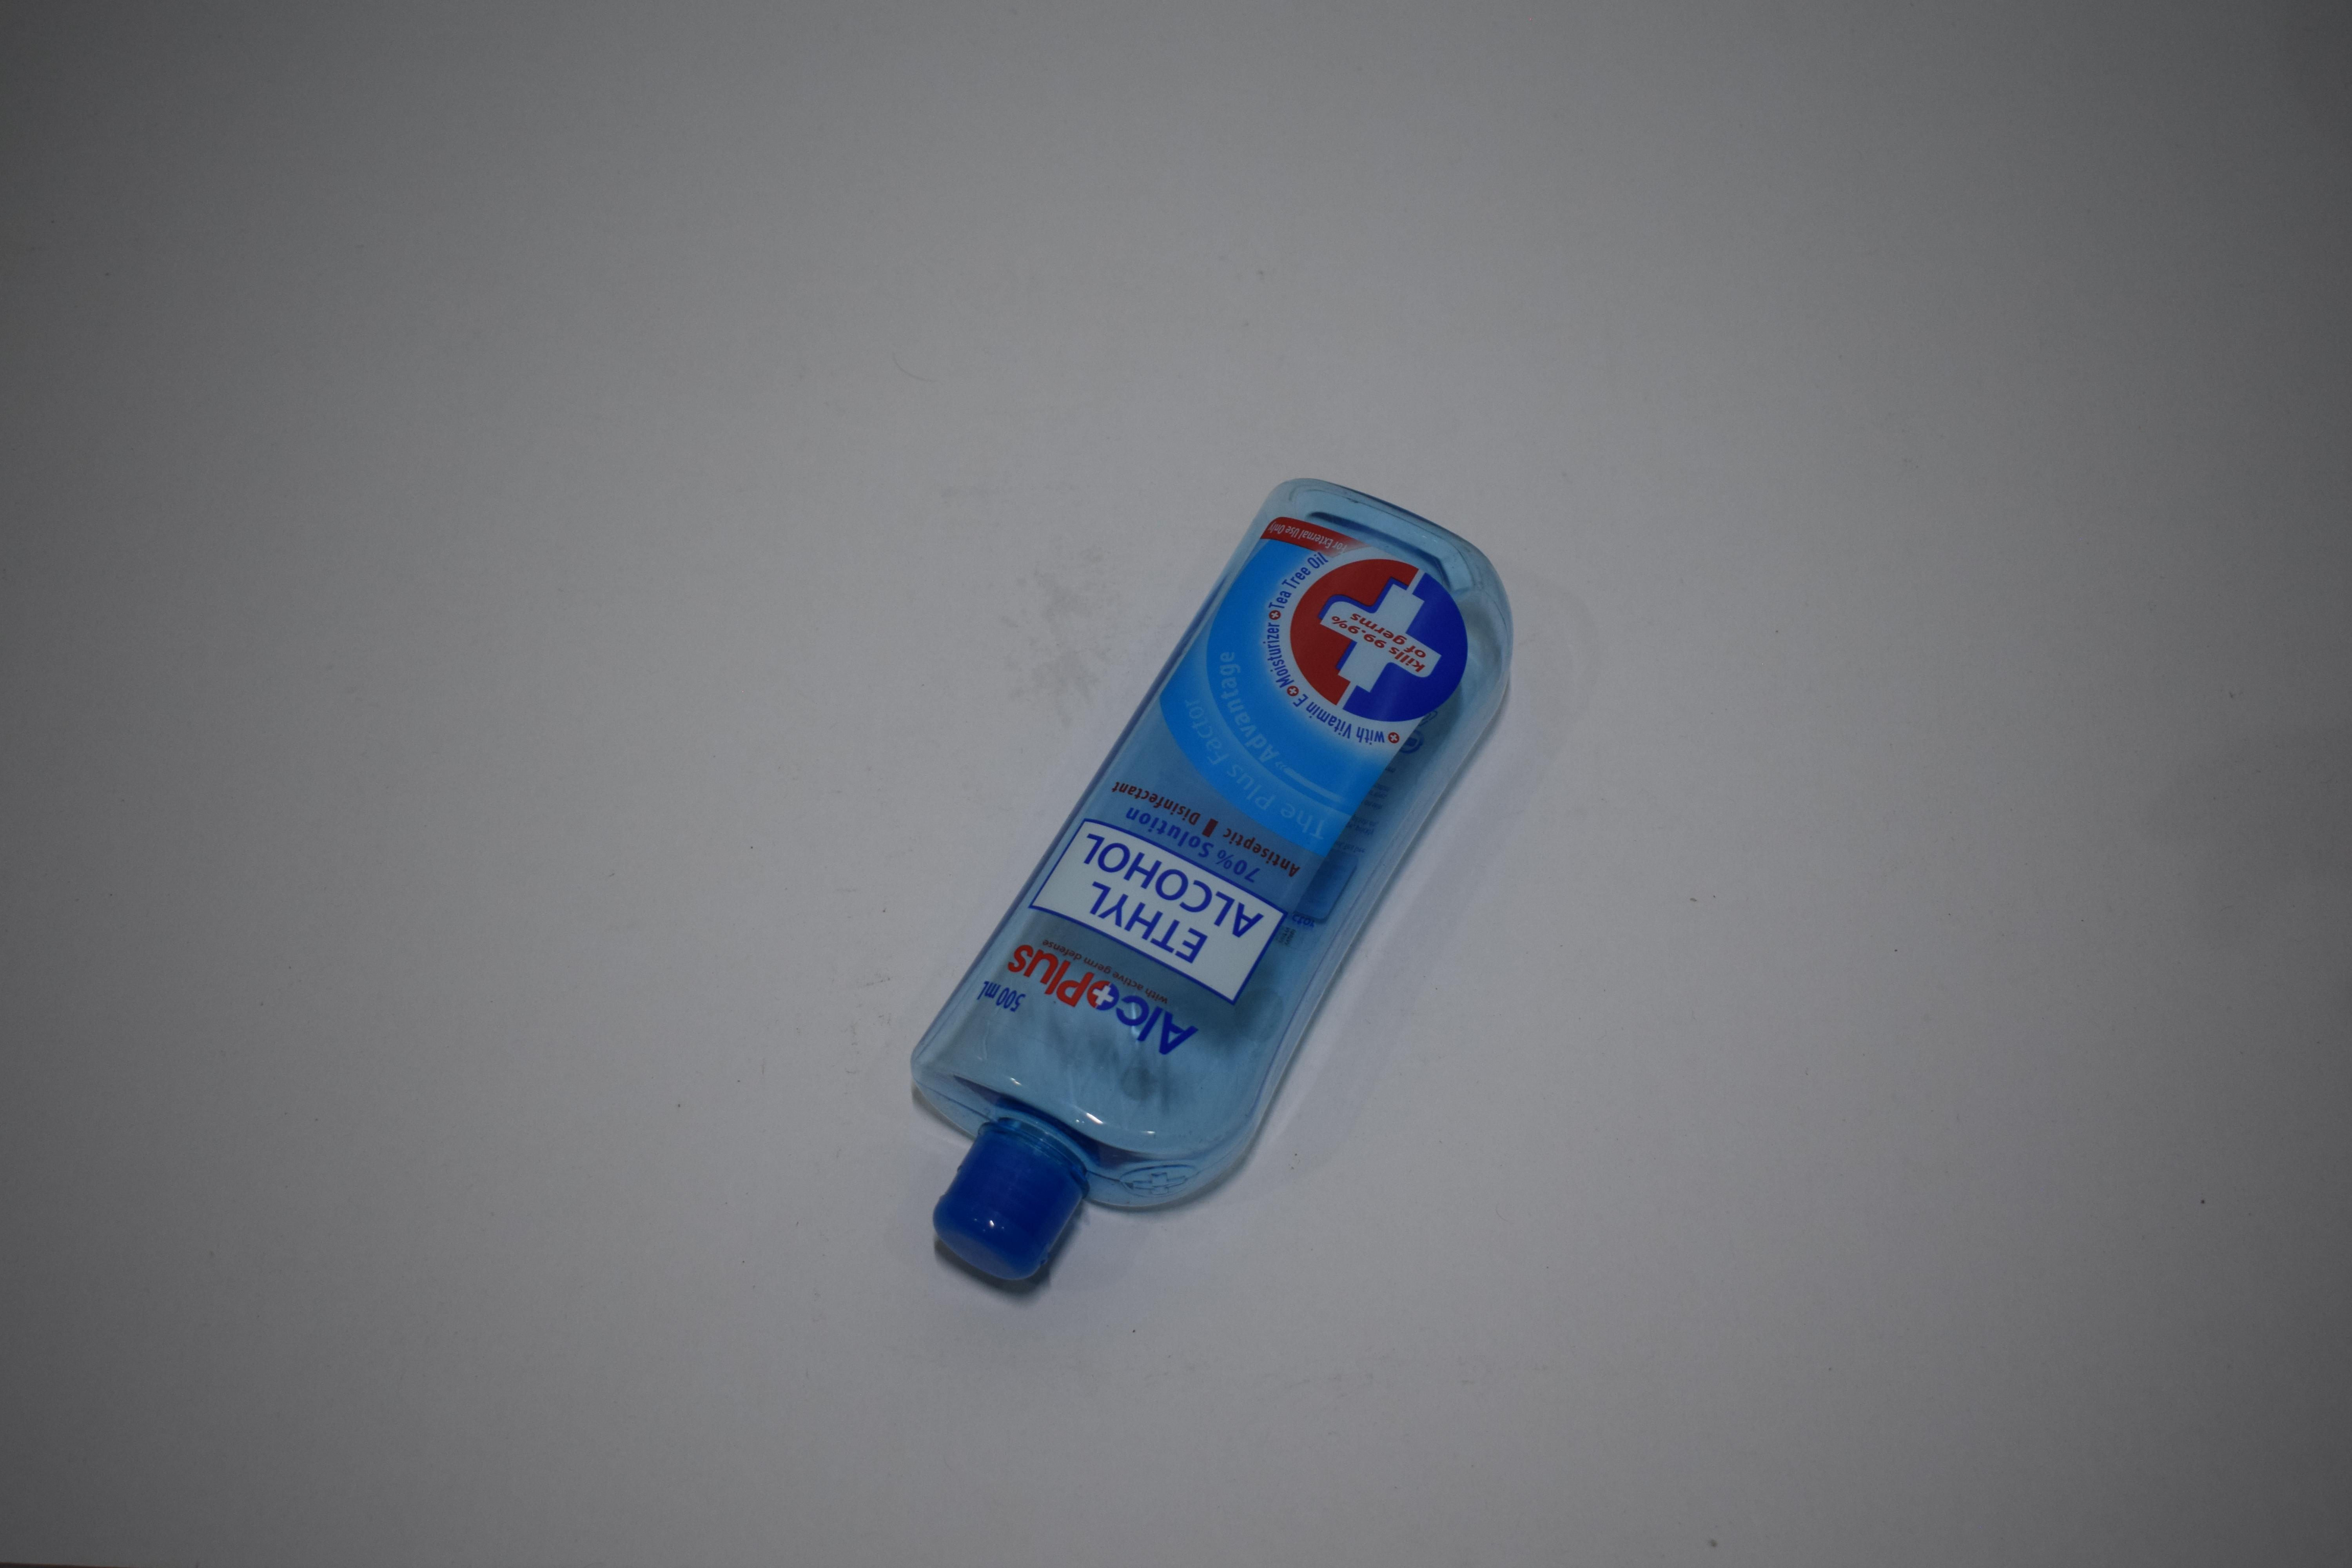bottle: (0, 79, 334, 130)
